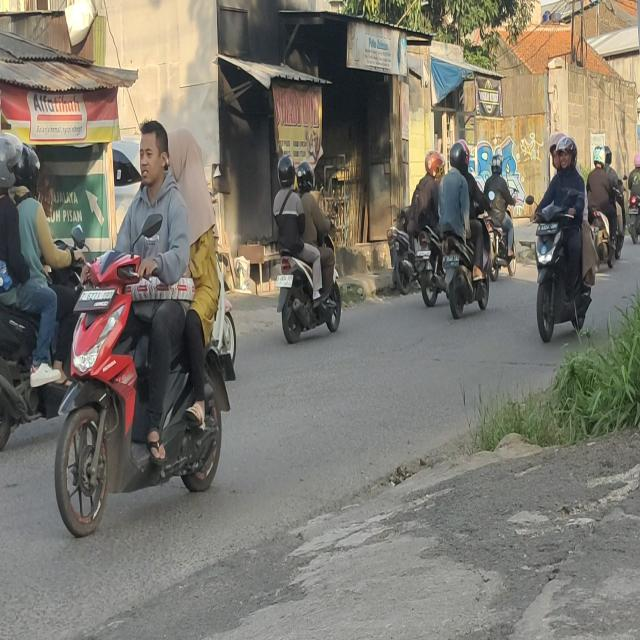helmet: (17, 141, 40, 194), (0, 128, 17, 191), (550, 134, 566, 169), (277, 157, 294, 189), (560, 139, 577, 171), (298, 163, 314, 195), (425, 150, 440, 178), (458, 137, 470, 169), (451, 144, 466, 169), (593, 146, 605, 170), (490, 154, 502, 175), (604, 144, 612, 166), (438, 153, 445, 173), (634, 154, 640, 168)
no-helmet: (139, 126, 169, 186), (170, 129, 200, 179)
